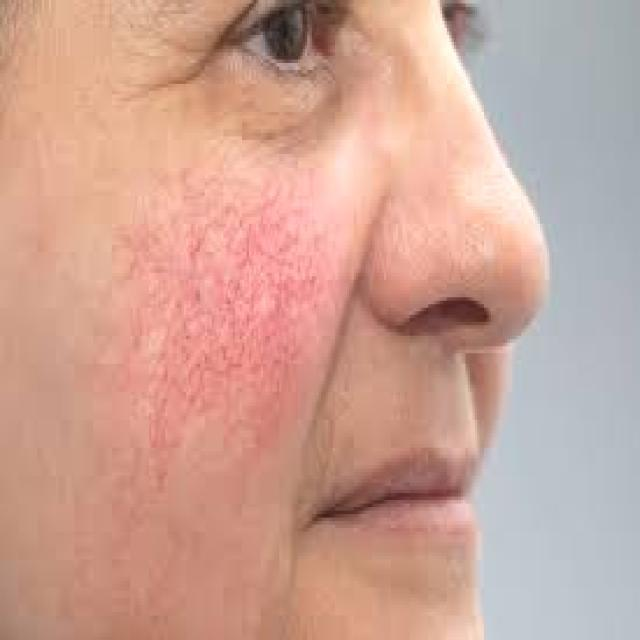Rosacea: (94, 178, 326, 508)
